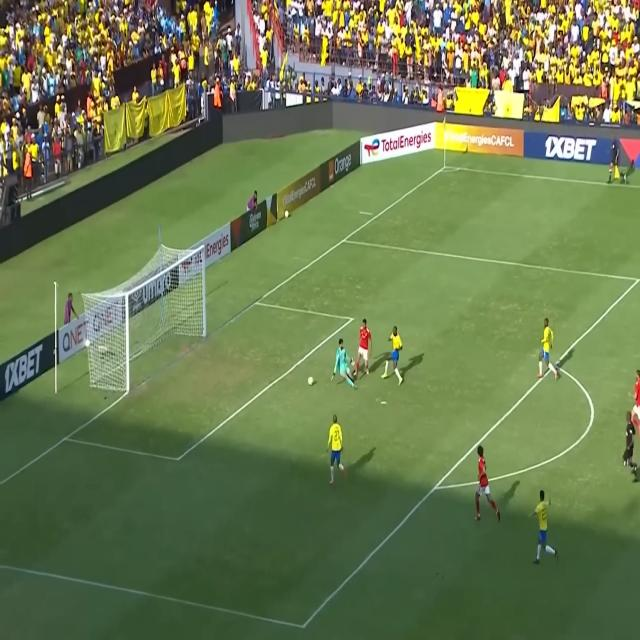Ball: (307, 376, 314, 386)
Keeper: (330, 334, 361, 390)
Player: (474, 444, 502, 524), (532, 491, 556, 564), (538, 318, 560, 384), (382, 328, 406, 387), (328, 418, 346, 484), (356, 318, 372, 378), (627, 371, 640, 431)
Ref: (619, 412, 639, 483), (607, 137, 629, 186)
